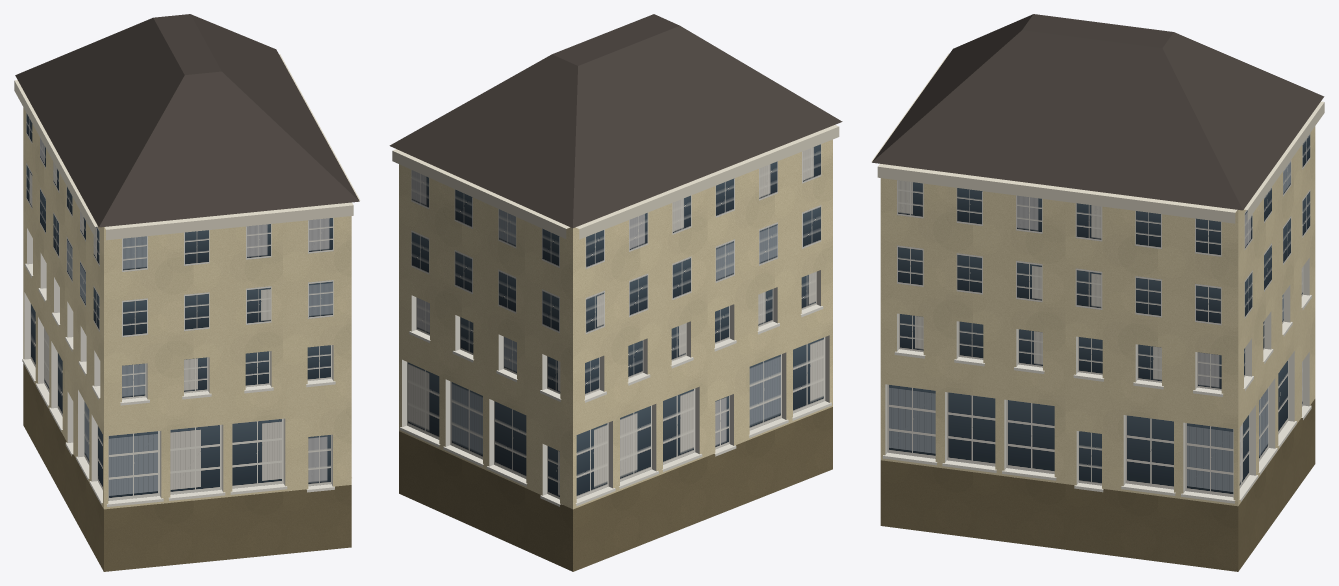
File: z5b_altst152.glb
3 views of the same model, side by side, from view 1: azimuth 30°, elevation 25°; view 2: azimuth 150°, elevation 25°; view 3: azimuth 270°, elevation 25° (orthographic). The views are drawn at different scales.
Parts seen in each view (by area): view 1: z5b_altst152; view 2: z5b_altst152; view 3: z5b_altst152.
Part boxes in pixels (x1=…): z5b_altst152: x1=14, y1=14, x2=360, y2=571; z5b_altst152: x1=389, y1=14, x2=842, y2=571; z5b_altst152: x1=871, y1=14, x2=1324, y2=571.
Size of the model in its own units: 15.86 by 21.19 by 18.77.
3 materials, 3 textured.
